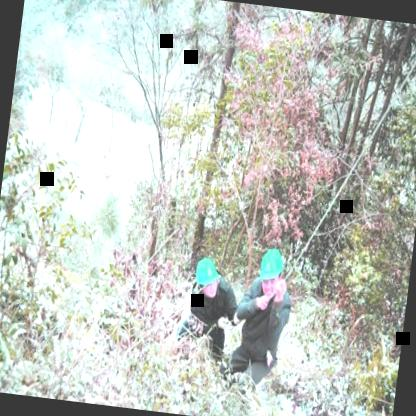helmet: (253, 244, 288, 295), (191, 253, 222, 300)
